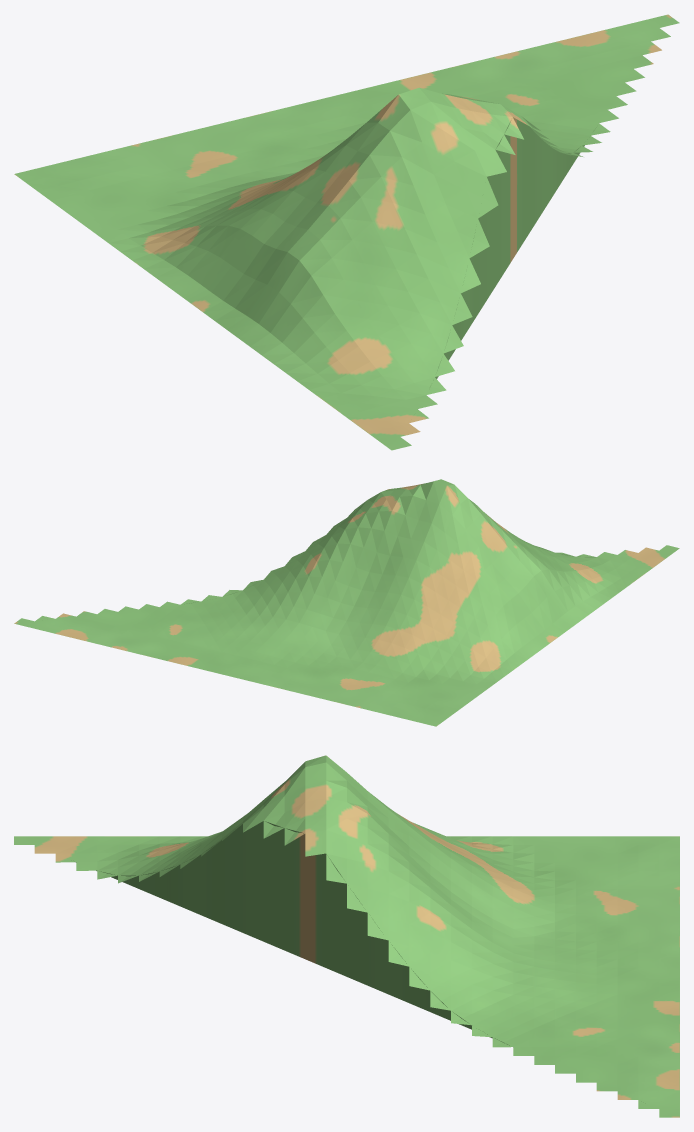
Rendered from Grass_Hills_02_SW.obj.
The picture shows the model from 3 angles, top to bottom: view 1: azimuth 30°, elevation 25°; view 2: azimuth 150°, elevation 25°; view 3: azimuth 270°, elevation 25°; orthographic projection. The views are drawn at different scales.
Bounding box in the file's own units: 10 × 2.68 × 10.
1 material, 1 textured.
